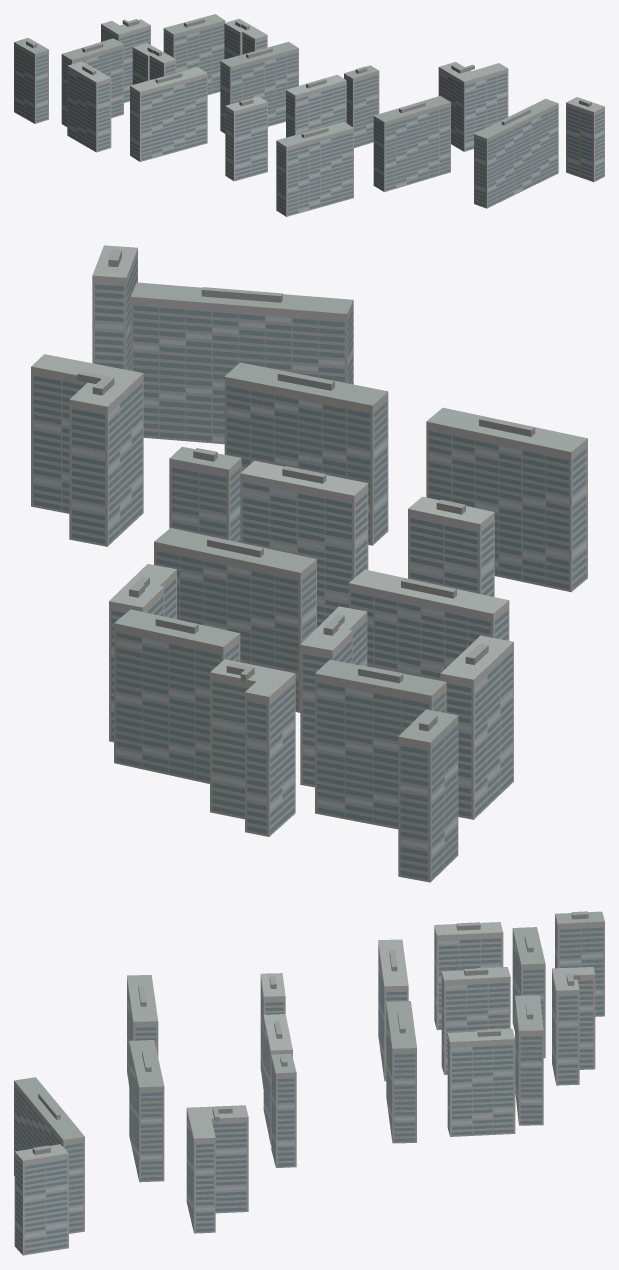
The model's file is apt-a12078704.glb.
3 renders of one model, top to bottom at view 1: azimuth 30°, elevation 25°; view 2: azimuth 150°, elevation 25°; view 3: azimuth 270°, elevation 25°, orthographic. The views are drawn at different scales.
Parts seen in each view (by area): view 1: apt-a12078704; view 2: apt-a12078704; view 3: apt-a12078704.
Boxes of the visible parts, x1,y1,x2,y2 form: apt-a12078704: [14, 14, 604, 216]; apt-a12078704: [31, 245, 587, 882]; apt-a12078704: [14, 911, 604, 1255].
Bounding box in the file's own units: 269 × 50 × 270.
